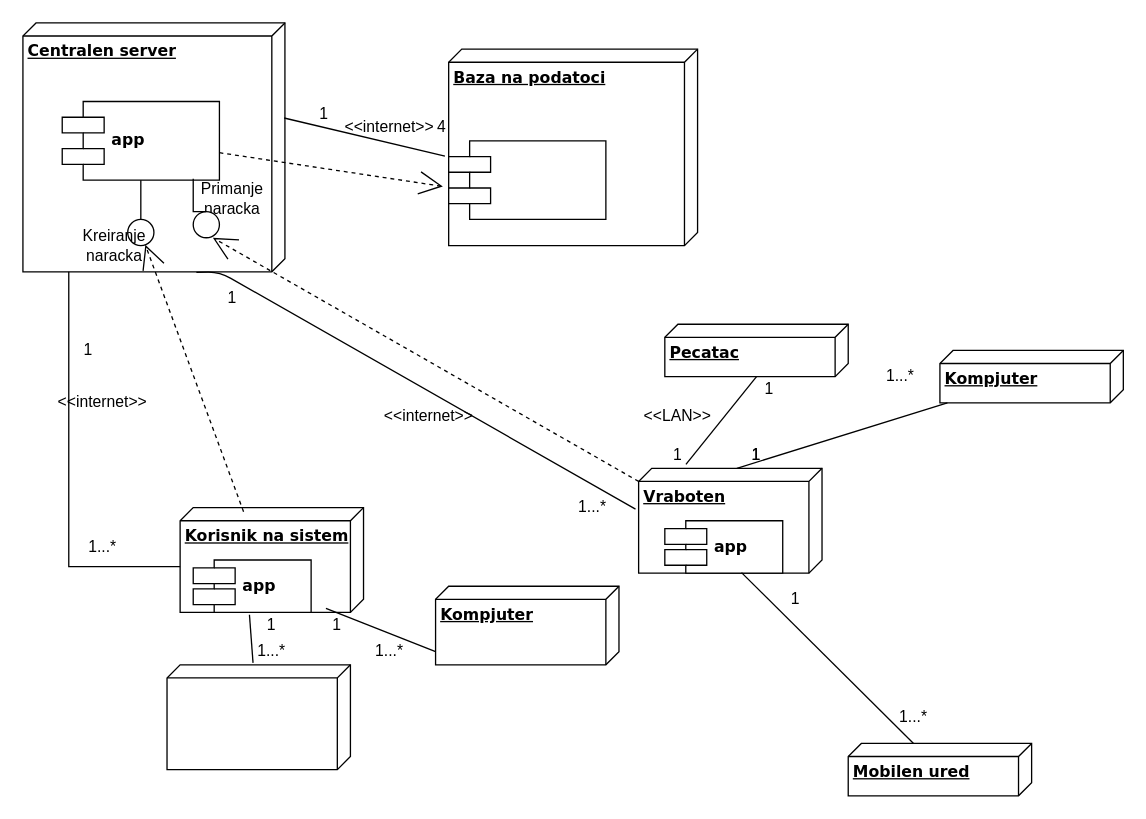
This 1146x819 diagram has some shape labels left out. The centre of each missing label's shape, as x and y in pixels:
Bezzicen ured: (x=258, y=717)
«table» baza na podatoci: (x=526, y=179)
